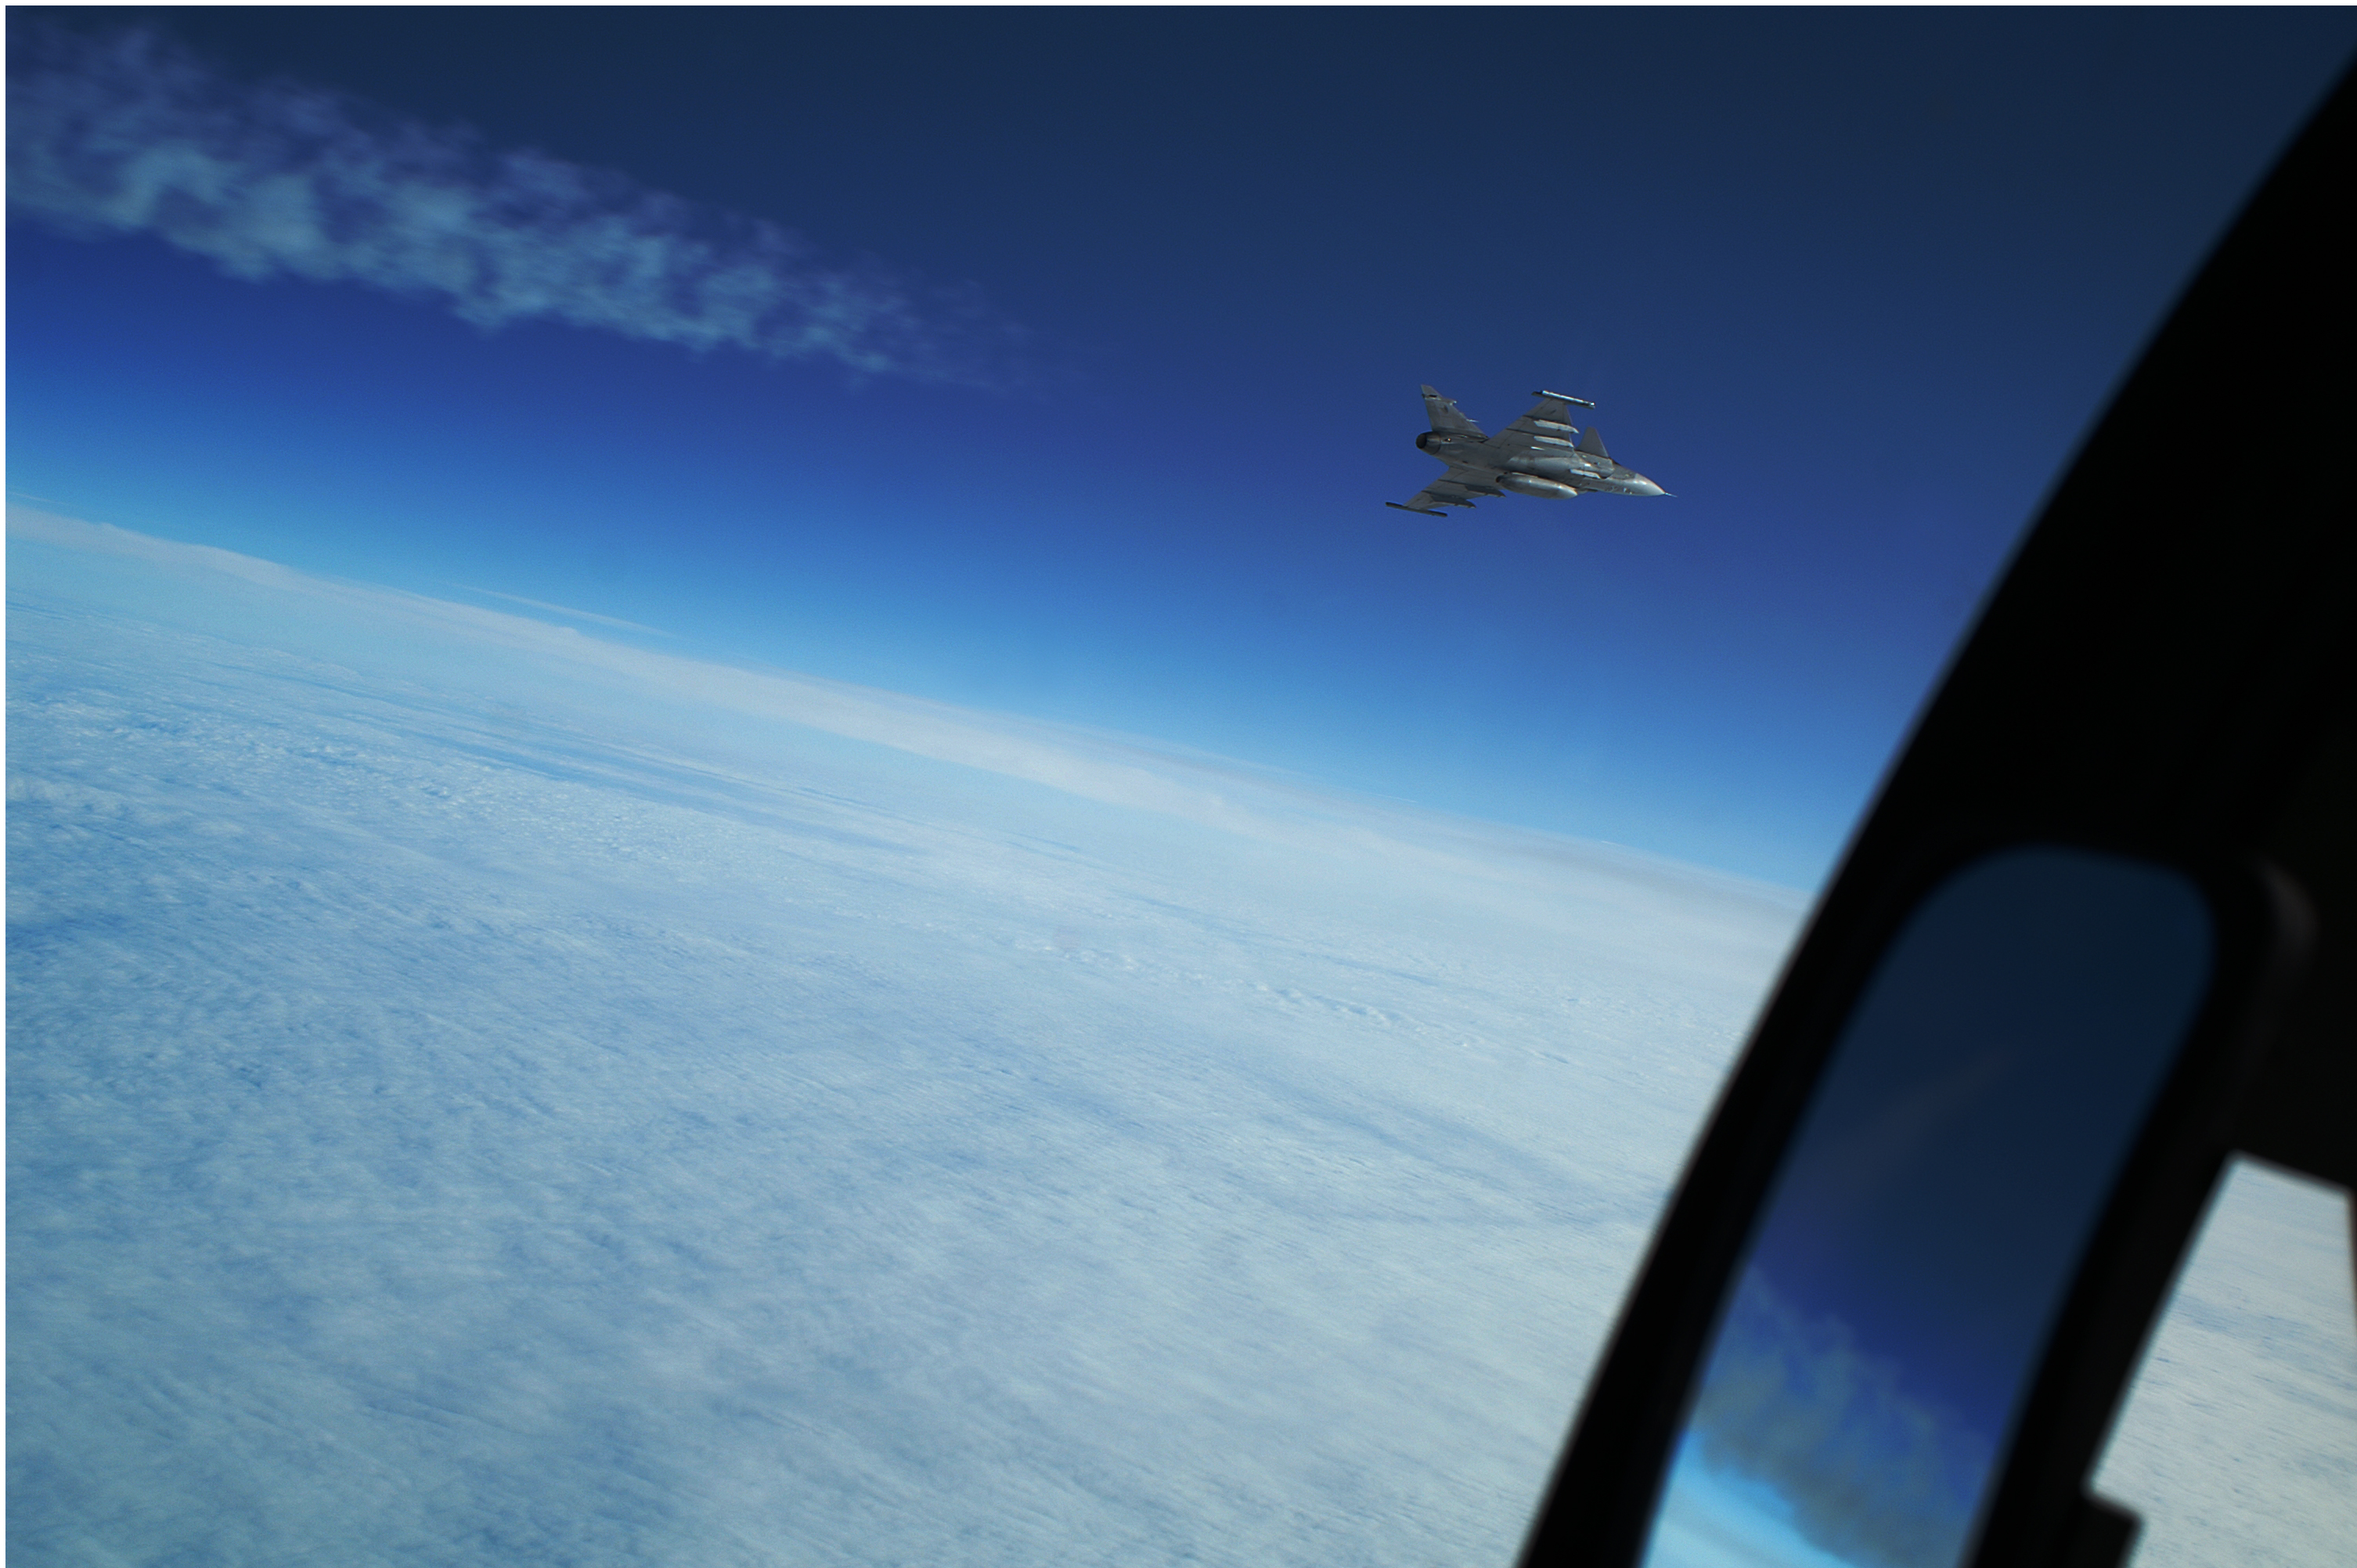JAS39: (1384, 383, 1678, 518)
